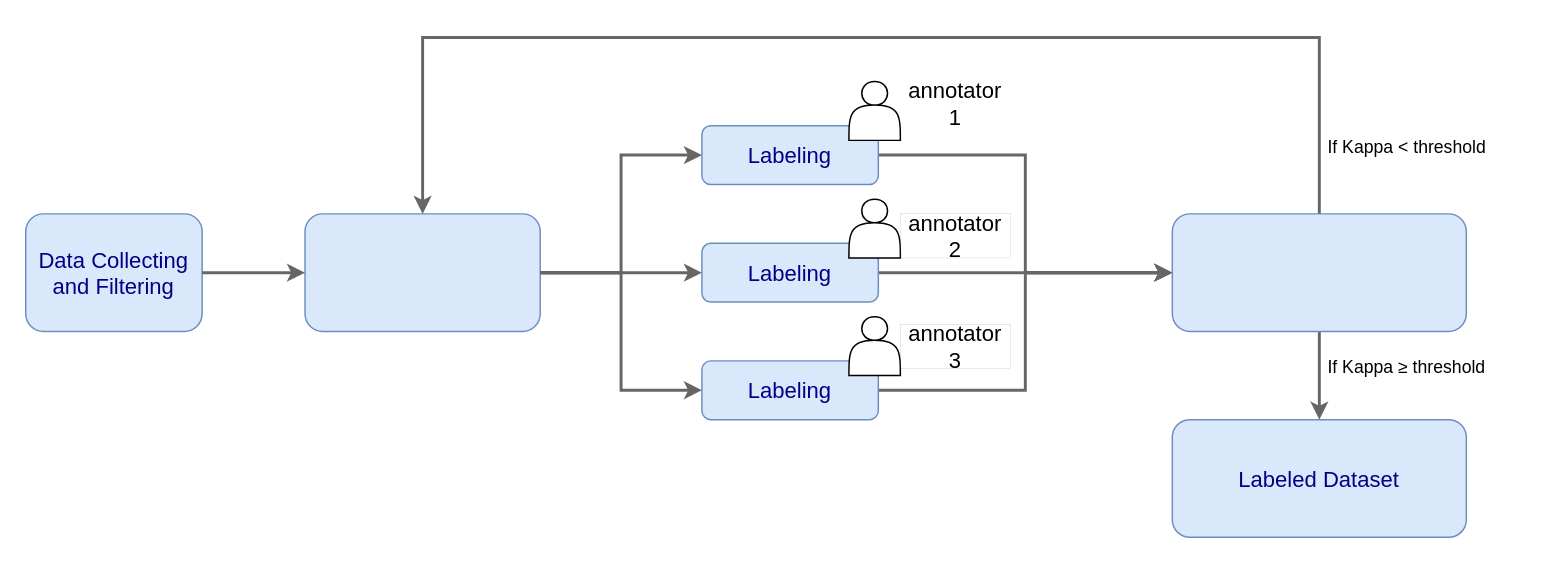
Some shapes in this 1566 by 563 pixel diagram are drawn without their labels. Here are the shapes that lost their labels. From the top down, the centre of each, then its label:
At point (422, 271): "Metadata & Guideline Definition;".
At point (1318, 271): "Inter-annotator Agreement (Cohen's Kappa)".
